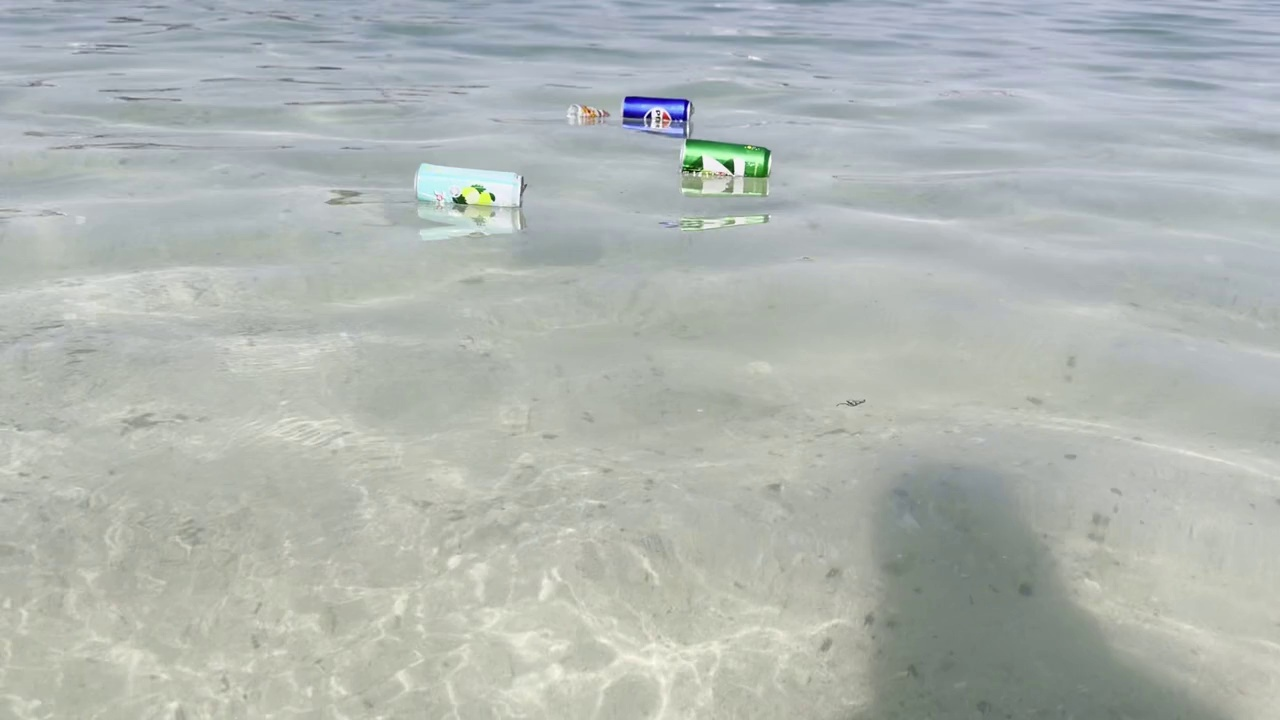debris: (405, 154, 531, 218), (668, 132, 775, 195), (611, 91, 700, 138), (564, 98, 611, 128)
